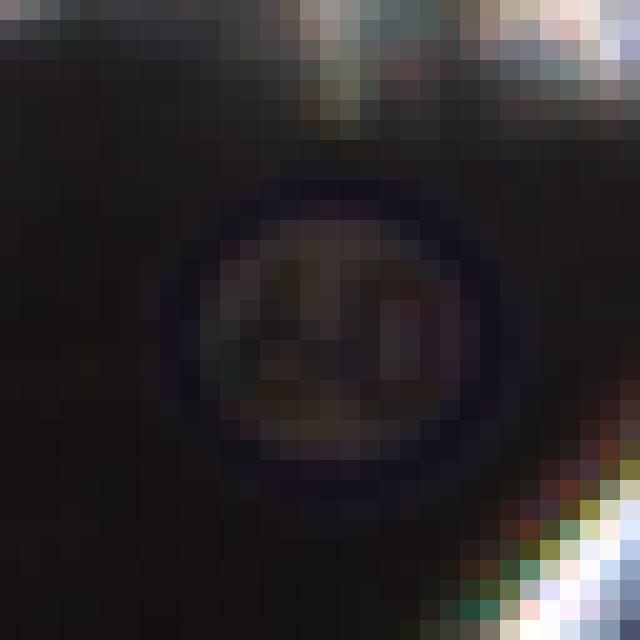SPEED-LIMIT-60: (160, 166, 516, 499)
